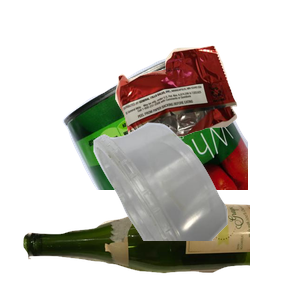glass: (21, 201, 261, 300)
metal: (60, 48, 300, 228)
plastic: (91, 120, 300, 300)
trash: (113, 43, 300, 181)
